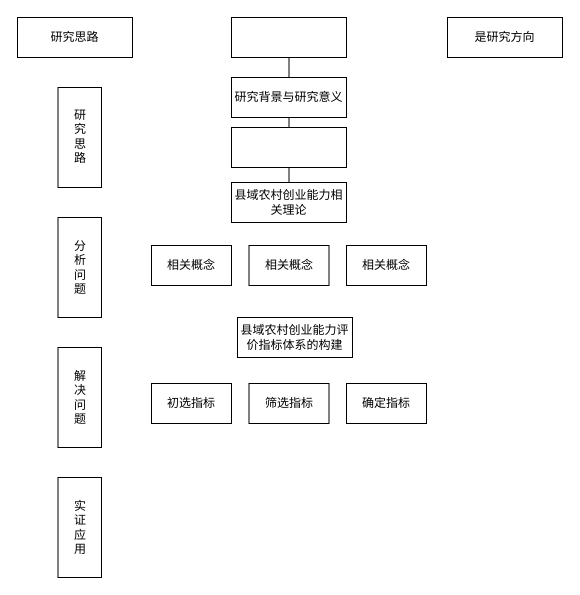
This 580x595 diagram has some shape labels left out. Here are the shapes that lost their labels. From the top down, the centre of each, then its label:
At [288,37]: "主要内容".
At [288,147]: "国内外研究现状".
